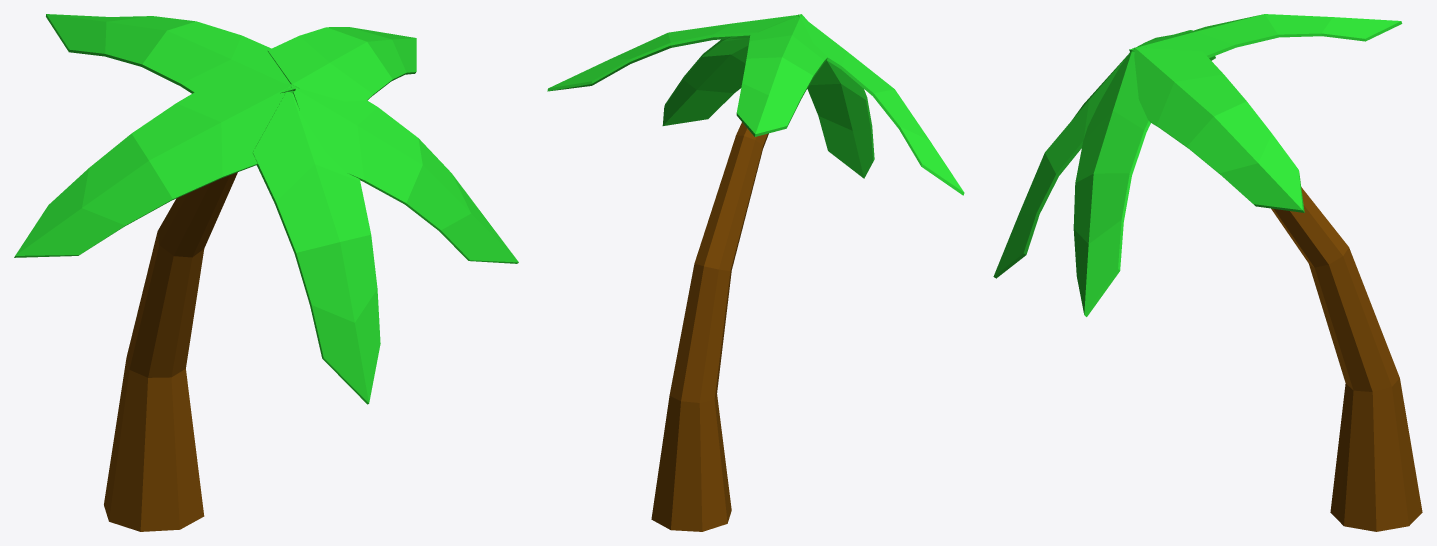
Rendered from palm_tree.glb.
The picture shows the model from 3 angles, left to right: view 1: azimuth 30°, elevation 25°; view 2: azimuth 150°, elevation 25°; view 3: azimuth 270°, elevation 25°; orthographic projection. The views are drawn at different scales.
Parts seen in each view (by area): view 1: Tree1_Tree1LeafMaterial_0, Tree1_Tree1Material_0; view 2: Tree1_Tree1LeafMaterial_0, Tree1_Tree1Material_0; view 3: Tree1_Tree1LeafMaterial_0, Tree1_Tree1Material_0.
Boxes of the visible parts, x1,y1,x2,y2 form: Tree1_Tree1LeafMaterial_0: (14,14,518,404); Tree1_Tree1Material_0: (104,172,237,531); Tree1_Tree1LeafMaterial_0: (547,14,964,195); Tree1_Tree1Material_0: (651,122,768,531); Tree1_Tree1LeafMaterial_0: (993,14,1402,316); Tree1_Tree1Material_0: (1271,187,1422,531).
Bounding box in the file's own units: 259 × 289 × 236.
